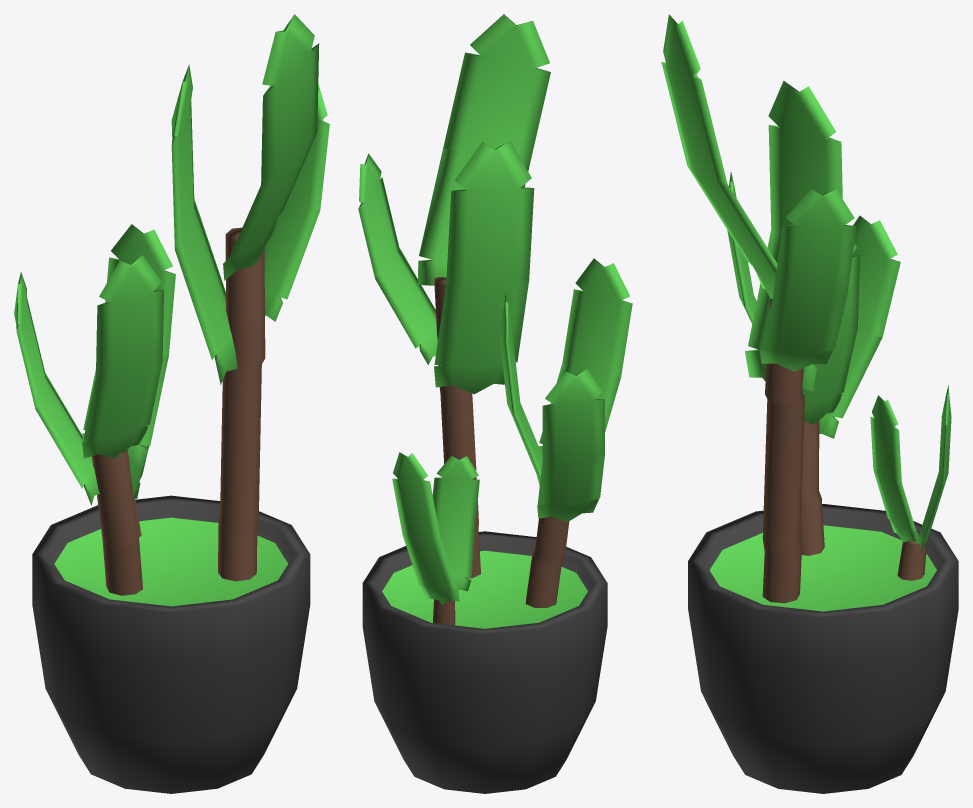
File: mesh_plant_b_01.fbx
3 views of the same model, side by side, from view 1: azimuth 30°, elevation 25°; view 2: azimuth 150°, elevation 25°; view 3: azimuth 270°, elevation 25° (orthographic). The views are drawn at different scales.
Visible parts, largest first — view 1: mesh_plant_b_01; view 2: mesh_plant_b_01; view 3: mesh_plant_b_01.
Part boxes in pixels (left/top/right/bottom): mesh_plant_b_01: left=14, top=14, right=329, bottom=793; mesh_plant_b_01: left=358, top=14, right=632, bottom=793; mesh_plant_b_01: left=661, top=14, right=958, bottom=793.
Size of the model in its own units: 21.39 by 56.22 by 19.93.
